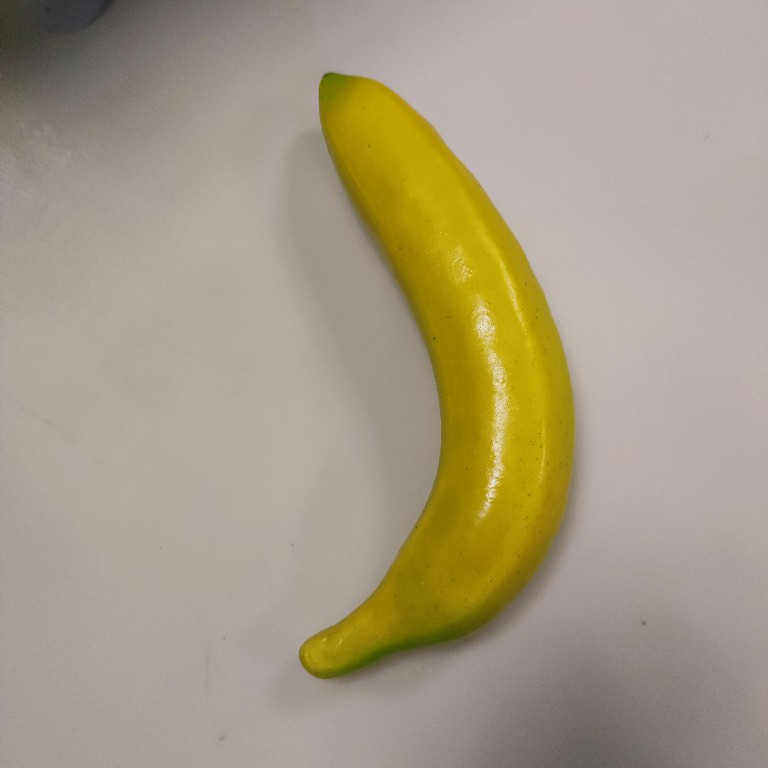fruit_banana: (296, 68, 581, 682)
